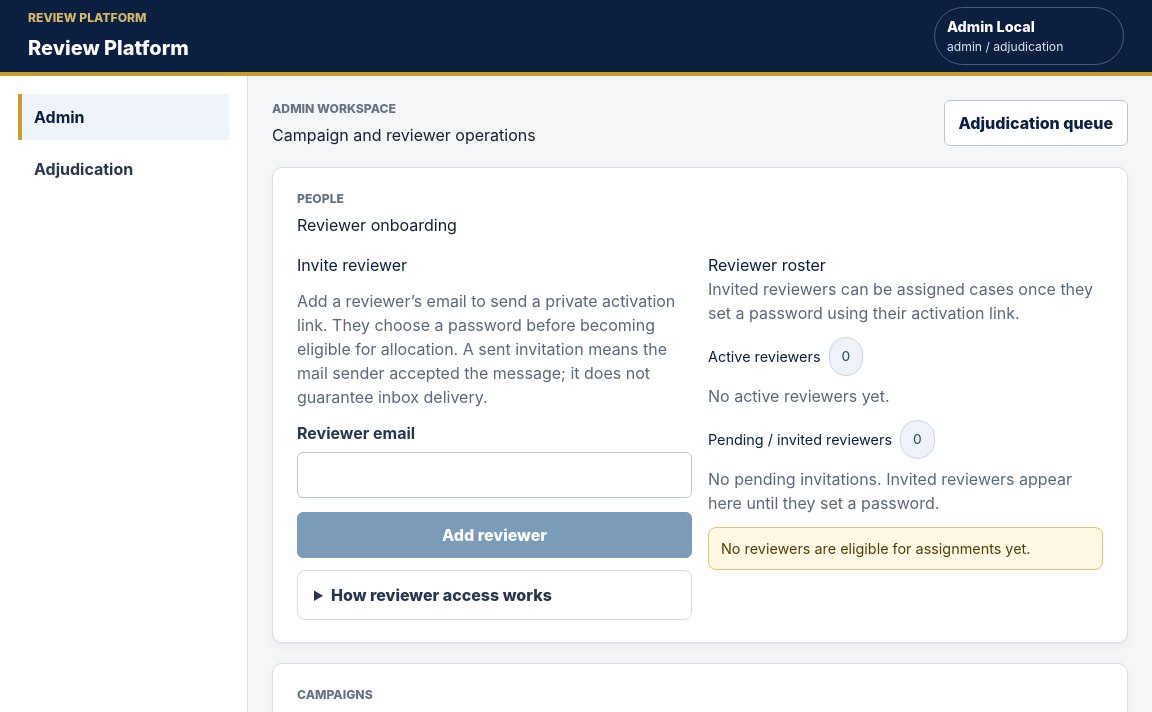
it: admin dashboard reviewer invitation › shows sent copy when the backend confirms a new invitation email was accepted for sending
Type "new-reviewer@example.test" into the field labelled "Reviewer email" at (494, 476), box x1=297 y1=452 x2=692 y2=498
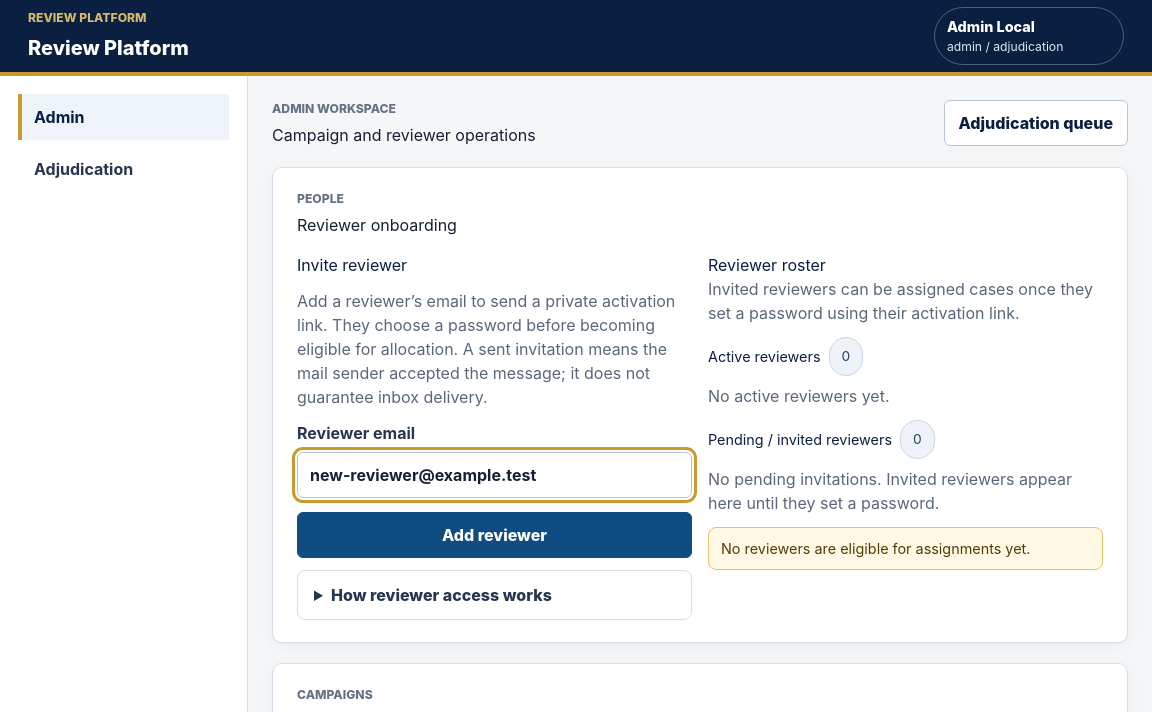
Click the button "Add reviewer" at (494, 536), box x1=297 y1=512 x2=692 y2=558
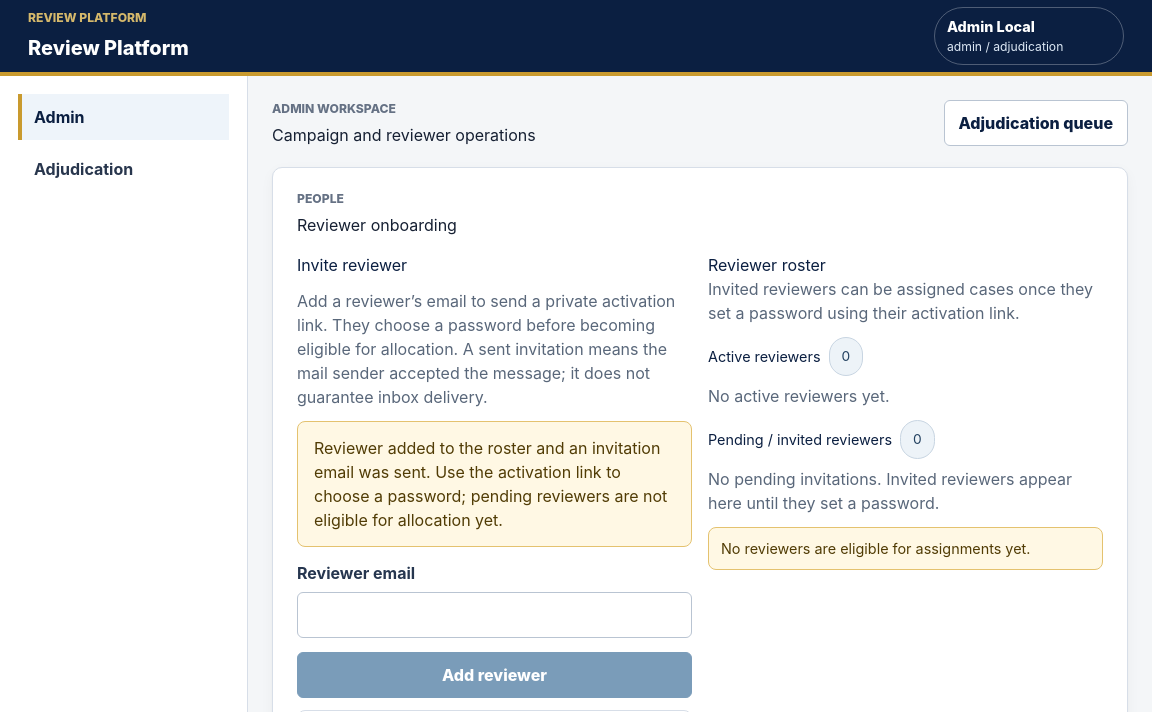
Result: the text "invitation email was sent" is shown at x1=314 y1=438 x2=667 y2=530
